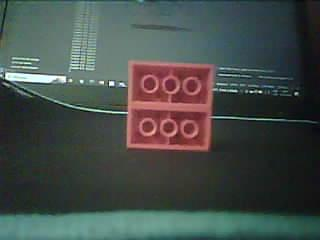lego: (126, 61, 214, 151)
